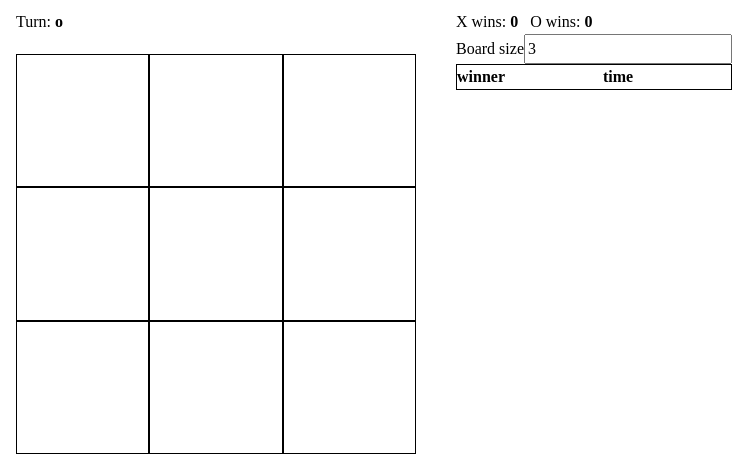
it: Main app › should place mark
The image size is (749, 471).
Step 1. Click the element with test id "0-0" → (83, 121), box [16,54,149,187]
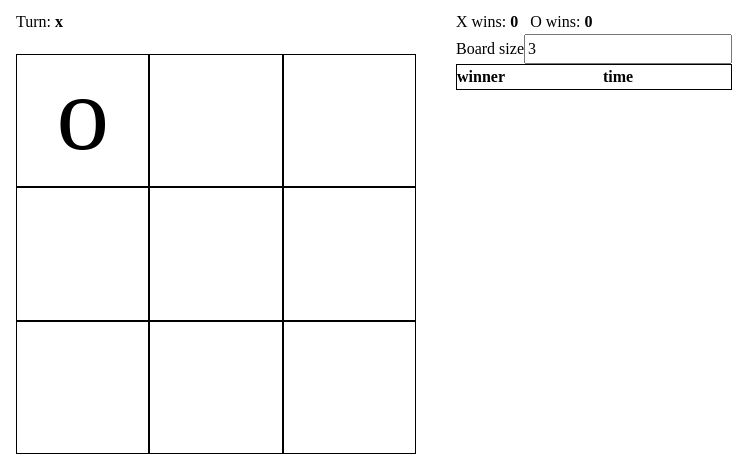
Now the element with test id "0-0" reads "o", box [56,55,109,172]
